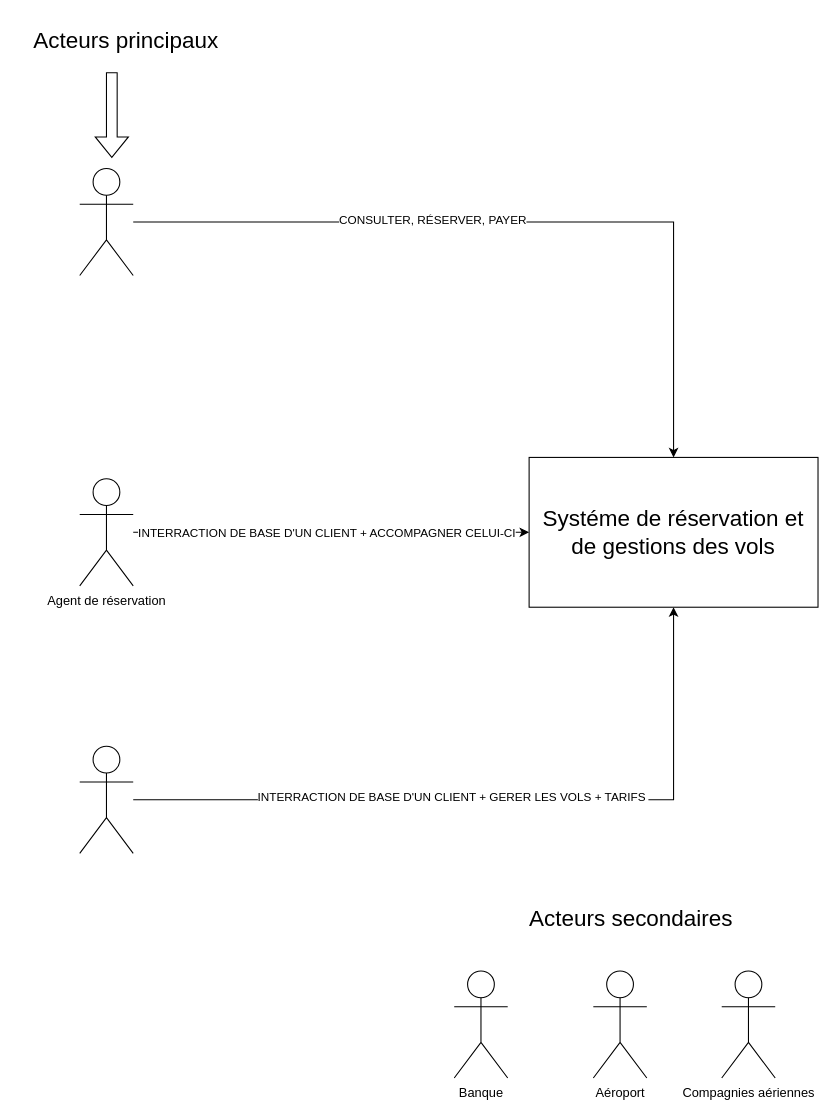
Image size: 837x1118. Some labels were removed from this diagram. Here are the shapes that lost their labels. From the top down, the centre of each, then its label:
At [106,221]: "Client".
At [106,799]: "Admin".
